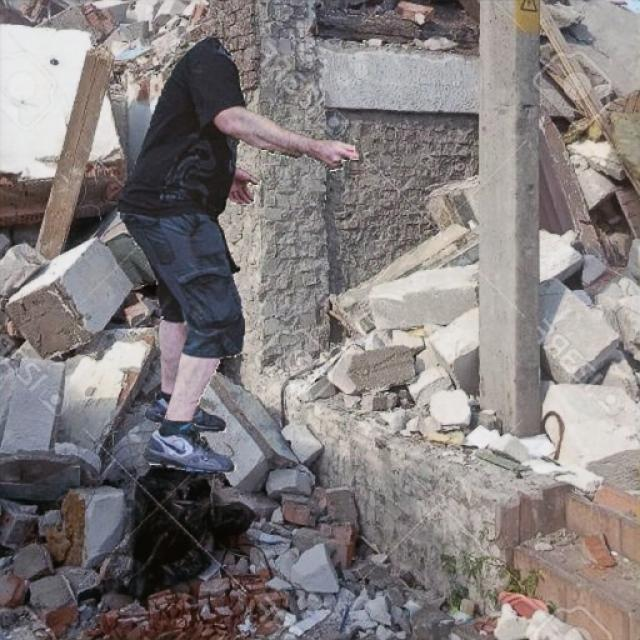Person in Rubble: (118, 36, 358, 472)
